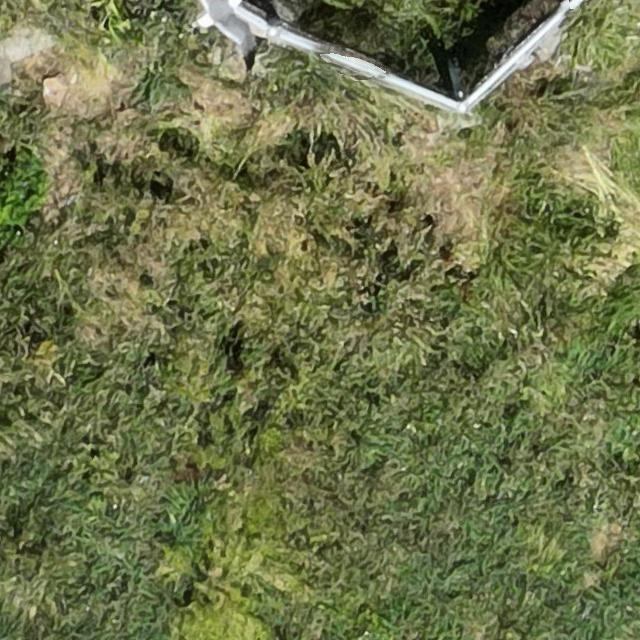F: (198, 0, 262, 66)
